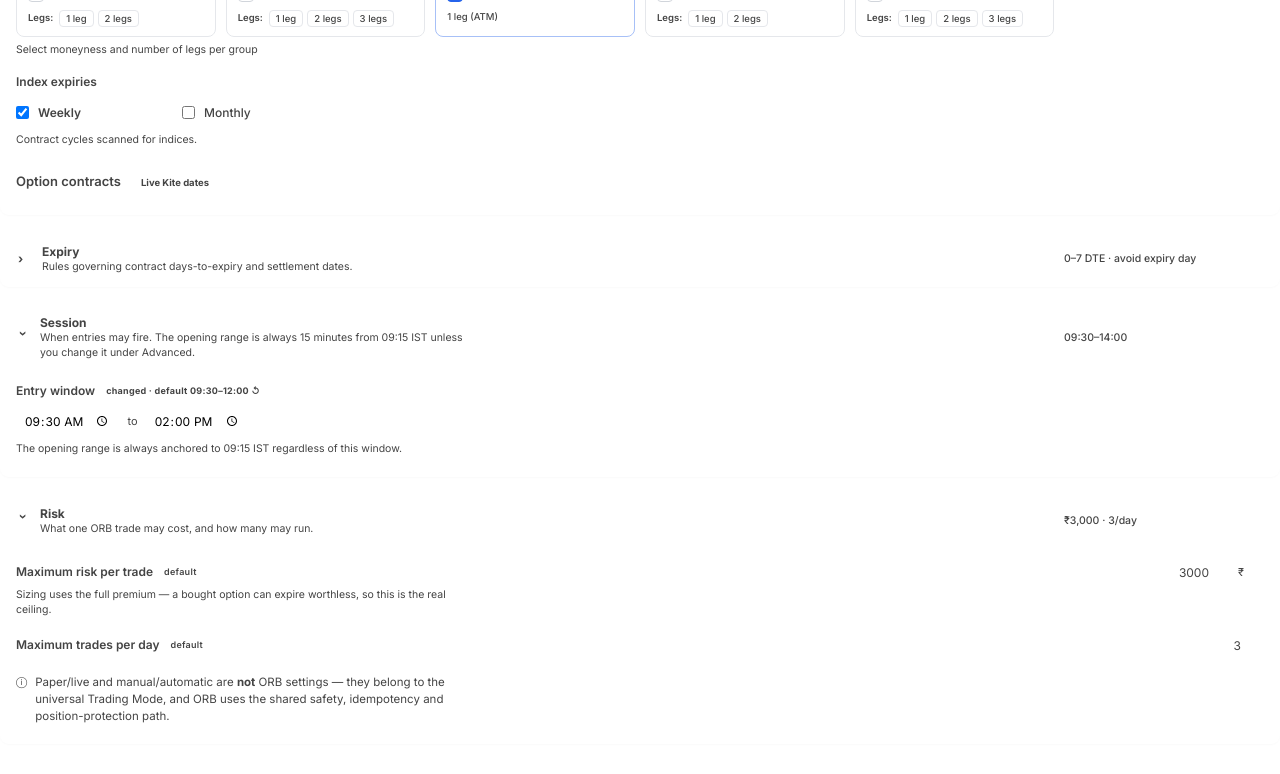
NiftyOrbOptionsSettings — default indication › treats the entry window as one setting and restores both ends together
(page scrolled)
Step 1. Click the button "changed · default 09:30–12:00 ↺" → (183, 391), box 101,383 -> 265,399
(page scrolled)
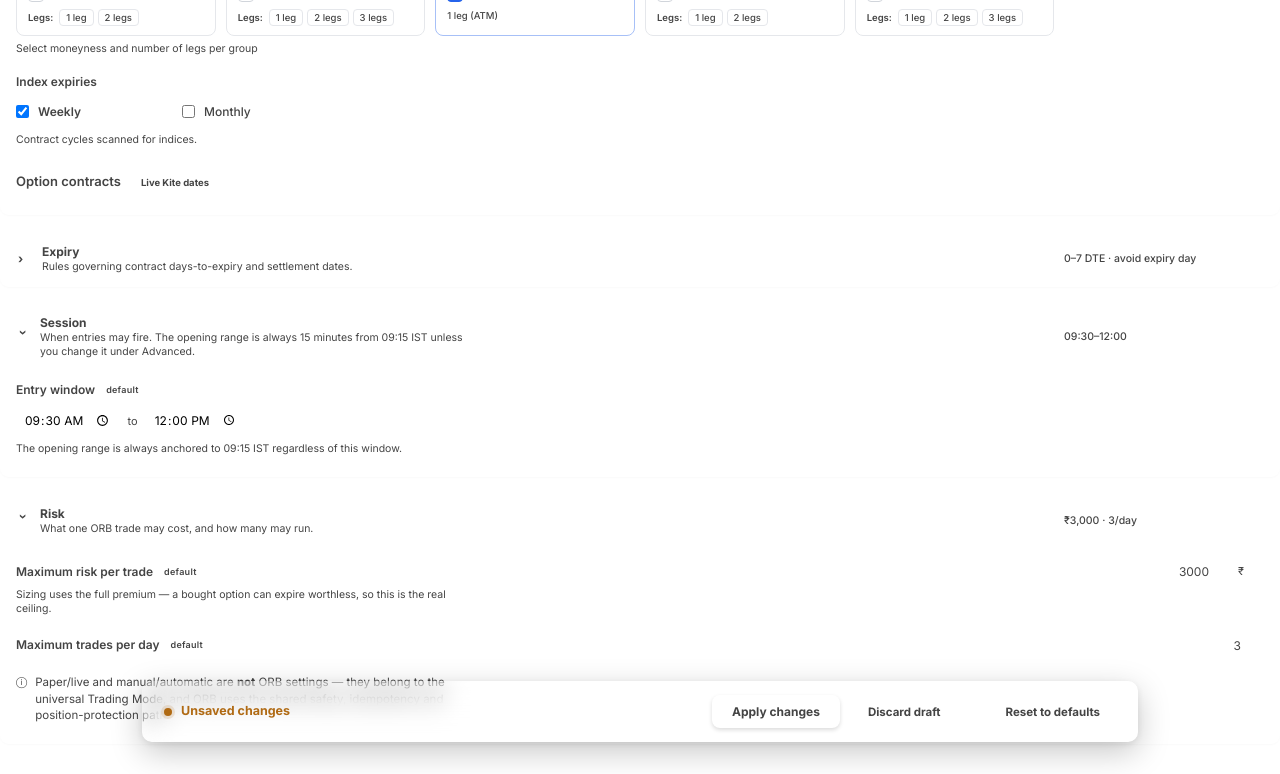
Expected: the 1st time field showing "09:30" is shown, 16,406 -> 120,436
Now the 2nd time field showing "12:00" is shown, box 146,406 -> 246,436
